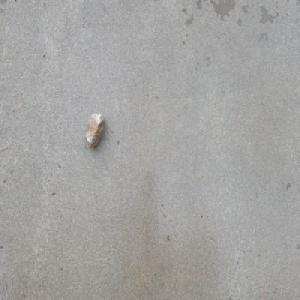Rock: (84, 109, 104, 150)
